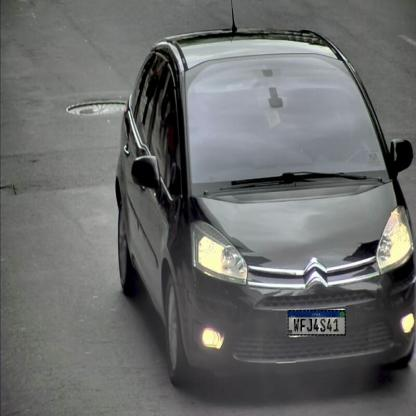PlacaM: (288, 310, 346, 335)
